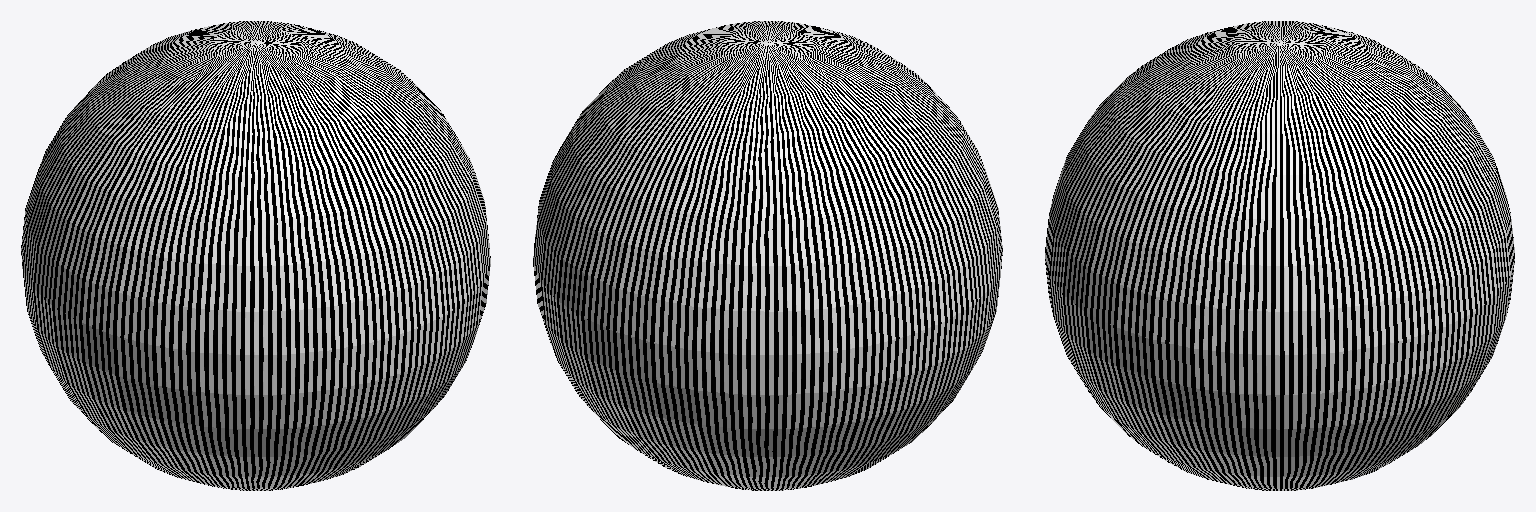
3 renders of one model, left to right at view 1: azimuth 30°, elevation 25°; view 2: azimuth 150°, elevation 25°; view 3: azimuth 270°, elevation 25°, orthographic.
Parts seen in each view (by area): view 1: Sphere; view 2: Sphere; view 3: Sphere.
Part boxes in pixels (x1,y1,x2,y2): Sphere: (21, 21, 490, 490); Sphere: (533, 21, 1002, 490); Sphere: (1045, 21, 1514, 490).
Size of the model in its own units: 3.56 by 3.56 by 3.56.
1 materials, 1 textured.